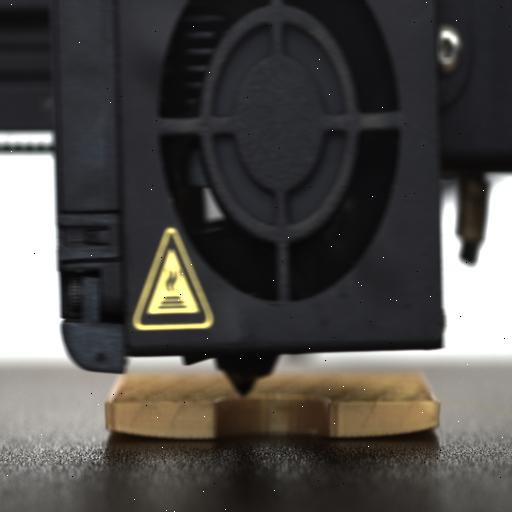warp: (106, 394, 222, 438), (332, 398, 440, 436)
